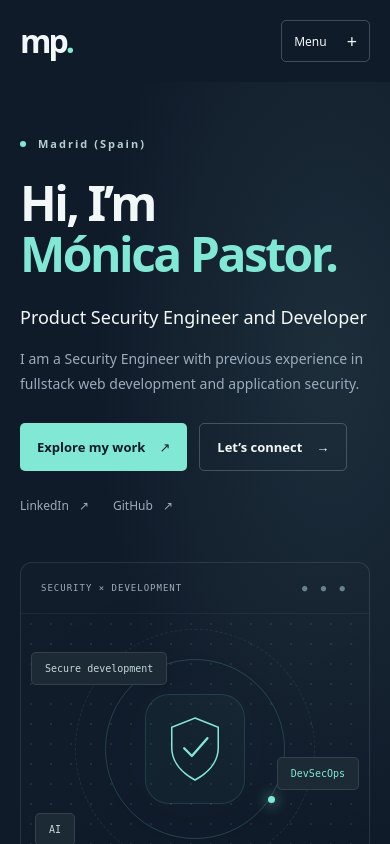
Test: portfolio after dependency upgrades › opens and closes mobile navigation with accessible state
What coordinates should you click on to do the following:
click the button with class "menu-toggle"
I would click on:
 (326, 41)
Its box is left=281, top=20, right=370, bottom=62.
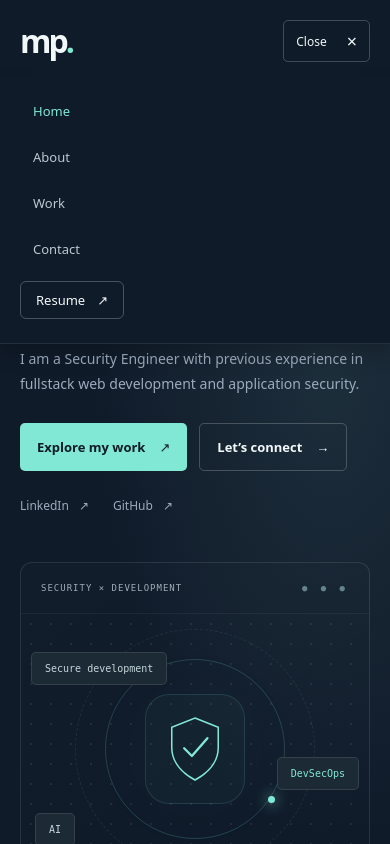
Result: the button with class "menu-toggle" is expanded at left=283, top=20, right=370, bottom=62
What coordinates should you click on to do the following:
click the link with id "about"
I would click on:
 (51, 157)
Its box is left=33, top=148, right=70, bottom=166.
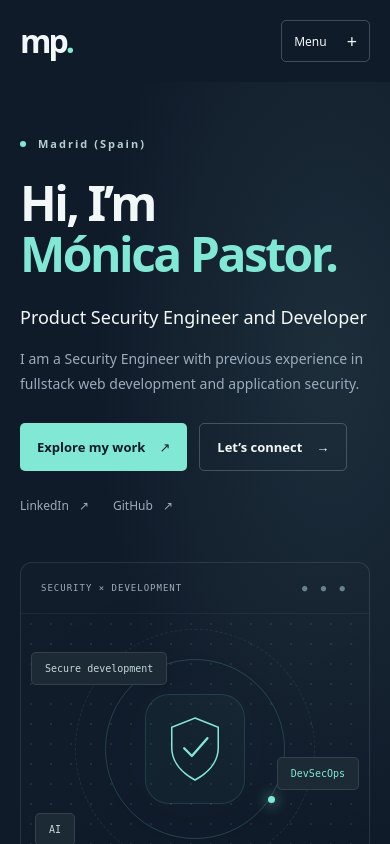
Result: the button with class "menu-toggle" is collapsed at left=281, top=20, right=370, bottom=62
